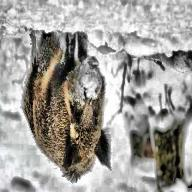boar: (4, 21, 147, 182)
